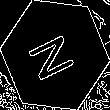N_NE: (26, 26, 84, 84)
